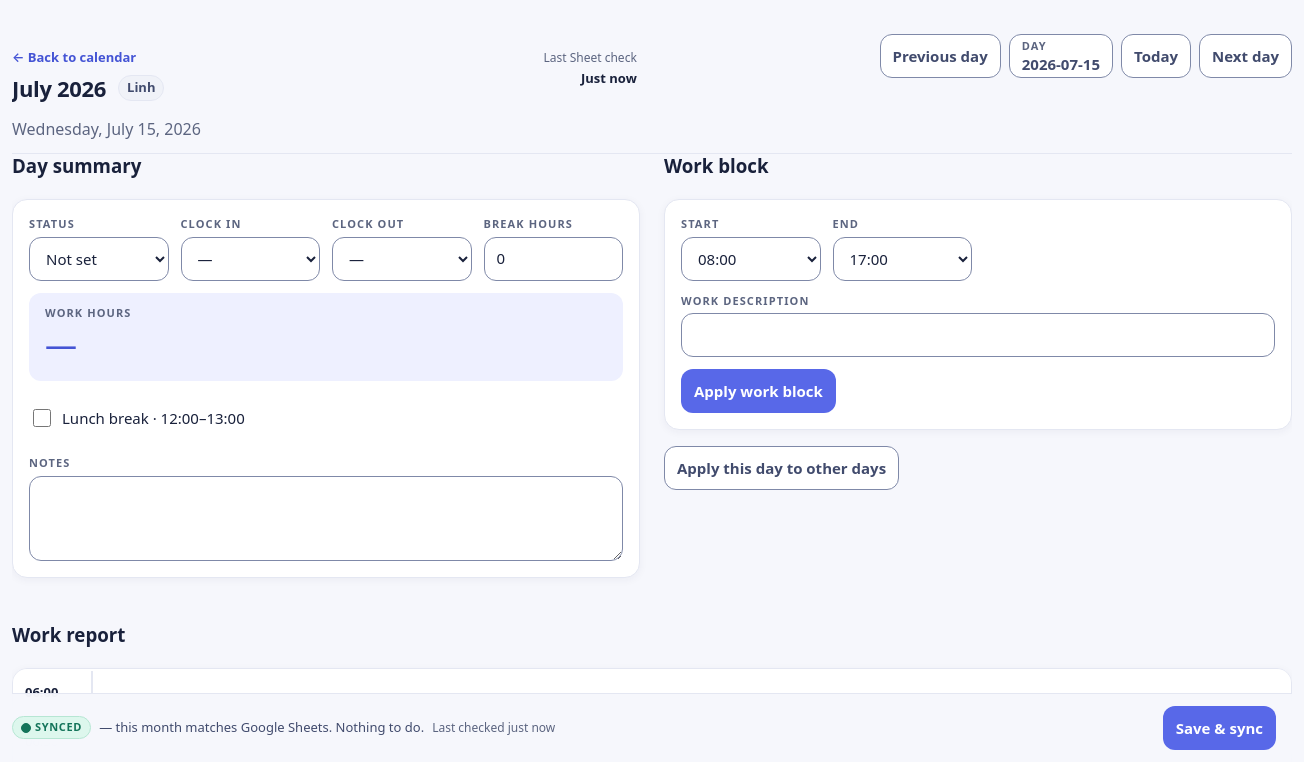
Scenario: AttendanceEditor › re-enables the lunch slots and the break field when lunch is cleared
Expected: the button "Save & sync" is shown, [1163, 706, 1276, 750]
Click the checkbox labelled "Lunch break · 12:00–13:00" at (42, 418), box [33, 396, 51, 440]
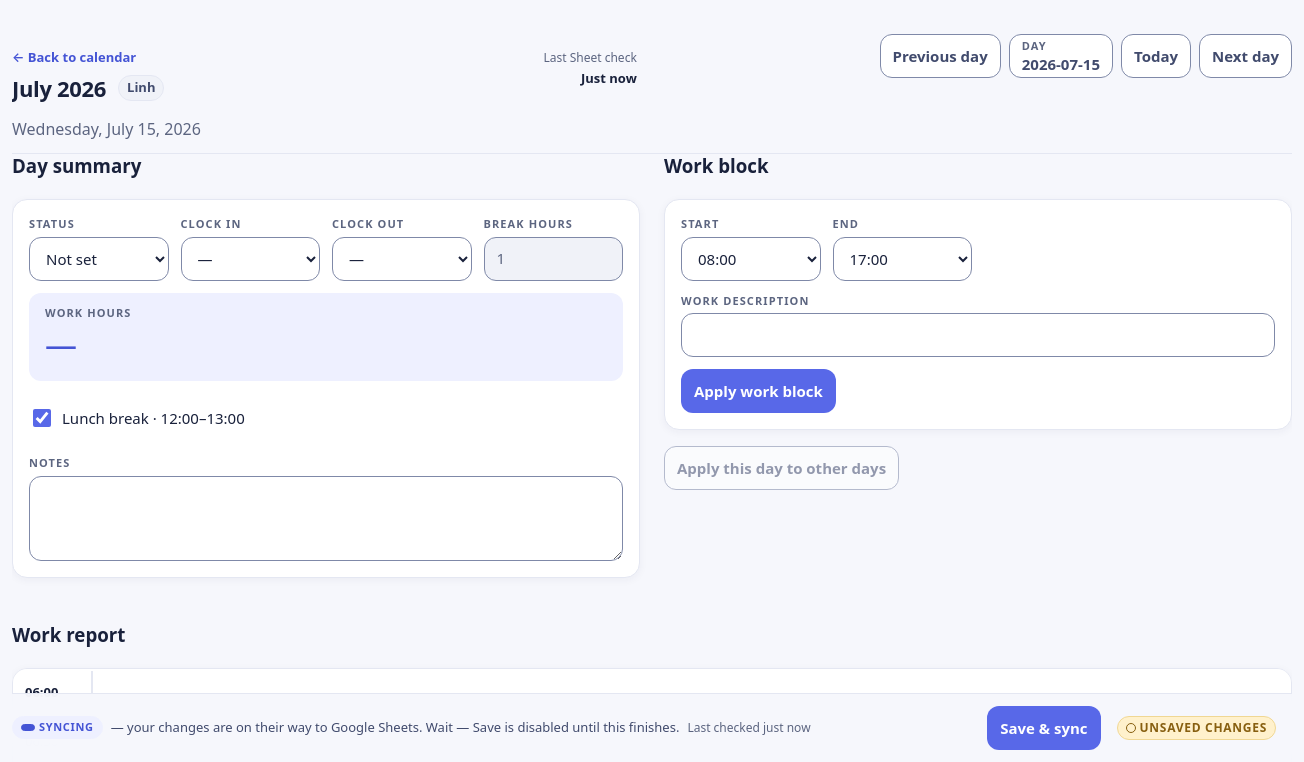
Click the checkbox labelled "Lunch break · 12:00–13:00" at (42, 418), box [33, 396, 51, 440]
(page scrolled)
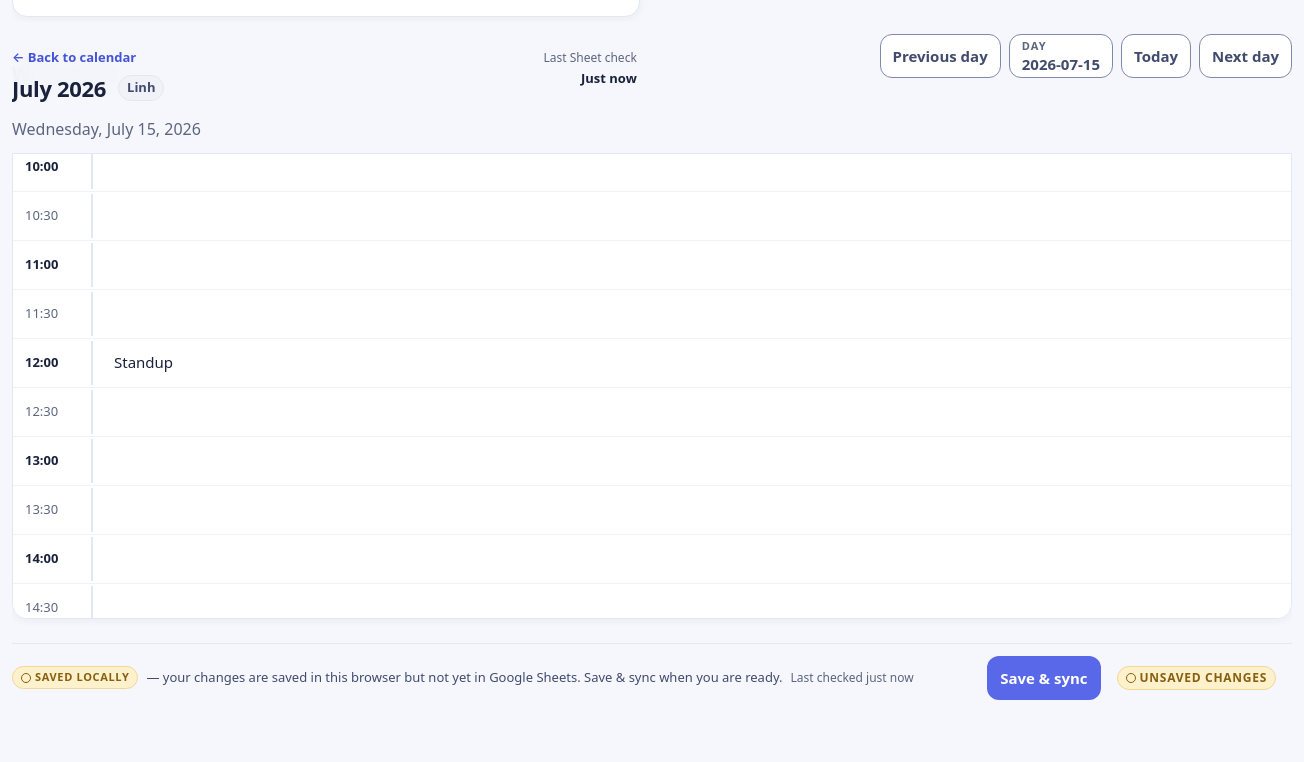
Expected: the field named "12:00 work" is enabled, [105, 340, 1279, 384]
Now the field named "12:00 work" holds "Standup", box [105, 340, 1279, 384]
